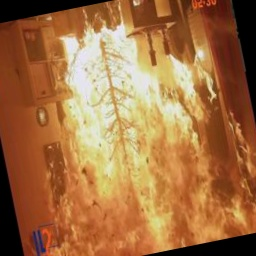fire: (0, 2, 256, 256)
